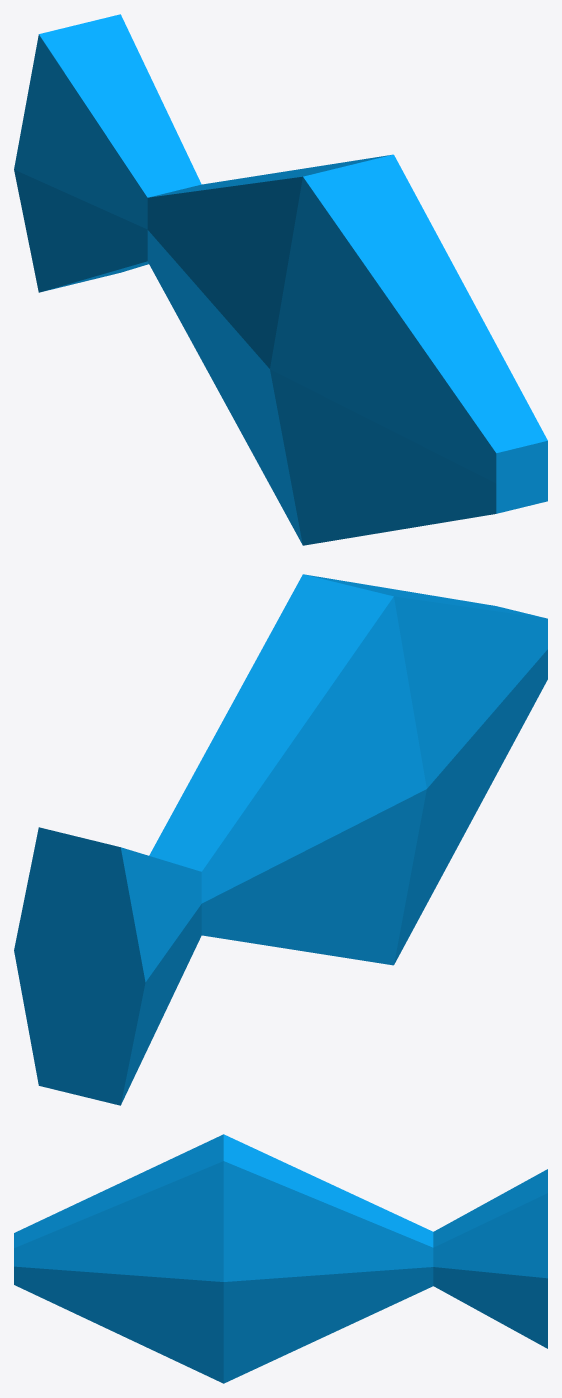
Rendered from fish_lowpoly.fbx.
3 renders of one model, top to bottom at view 1: azimuth 30°, elevation 25°; view 2: azimuth 150°, elevation 25°; view 3: azimuth 270°, elevation 25°, orthographic. The views are drawn at different scales.
Parts seen in each view (by area): view 1: Cube; view 2: Cube; view 3: Cube.
Part boxes in pixels (x1,y1,x2,y2): Cube: [14, 14, 547, 545]; Cube: [14, 574, 547, 1105]; Cube: [14, 1134, 547, 1383].
Bounding box in the file's own units: 261 × 586 × 1274.
